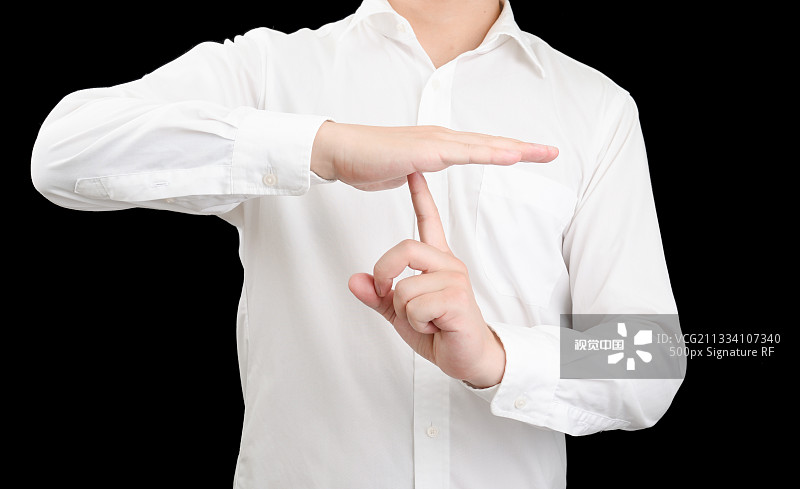no-phone: (339, 167, 518, 408), (305, 100, 570, 204)
